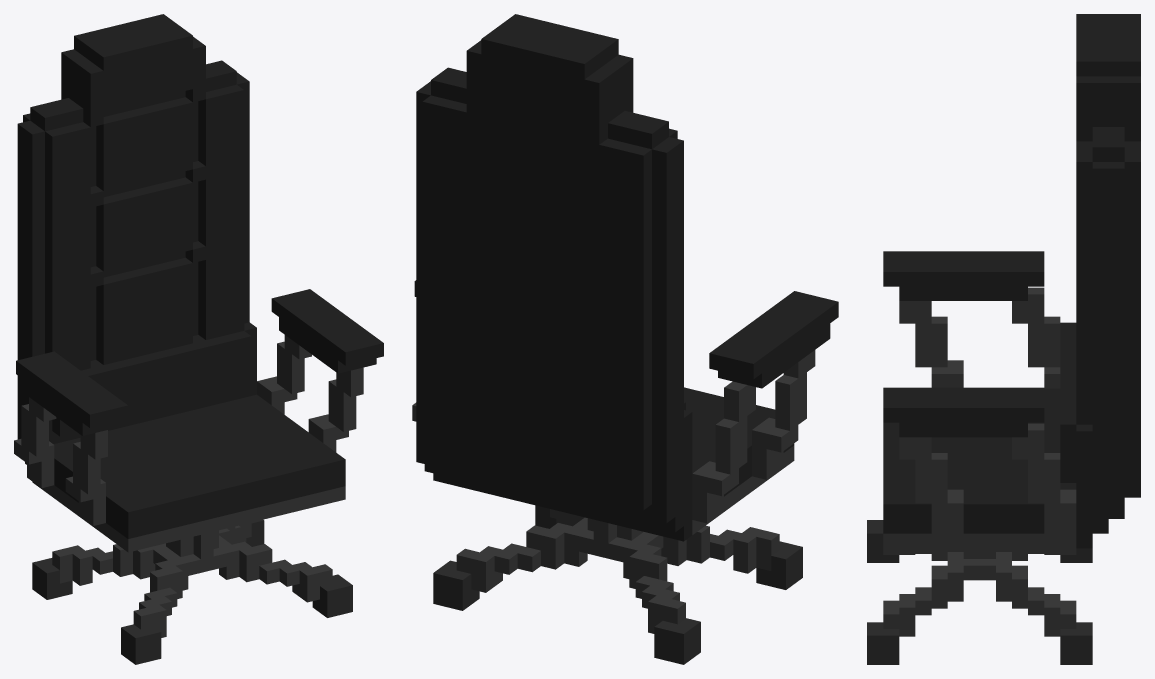
File: Chair5.fbx
The picture shows the model from 3 angles, left to right: view 1: azimuth 30°, elevation 25°; view 2: azimuth 150°, elevation 25°; view 3: azimuth 270°, elevation 25°; orthographic projection. The views are drawn at different scales.
Visible parts, largest first — view 1: Chair5; view 2: Chair5; view 3: Chair5.
Part boxes in pixels (x1,y1,x2,y2): Chair5: [14, 14, 383, 664]; Chair5: [412, 14, 838, 664]; Chair5: [867, 14, 1140, 664].
Size of the model in its own units: 2.3 by 3.9 by 1.7.
